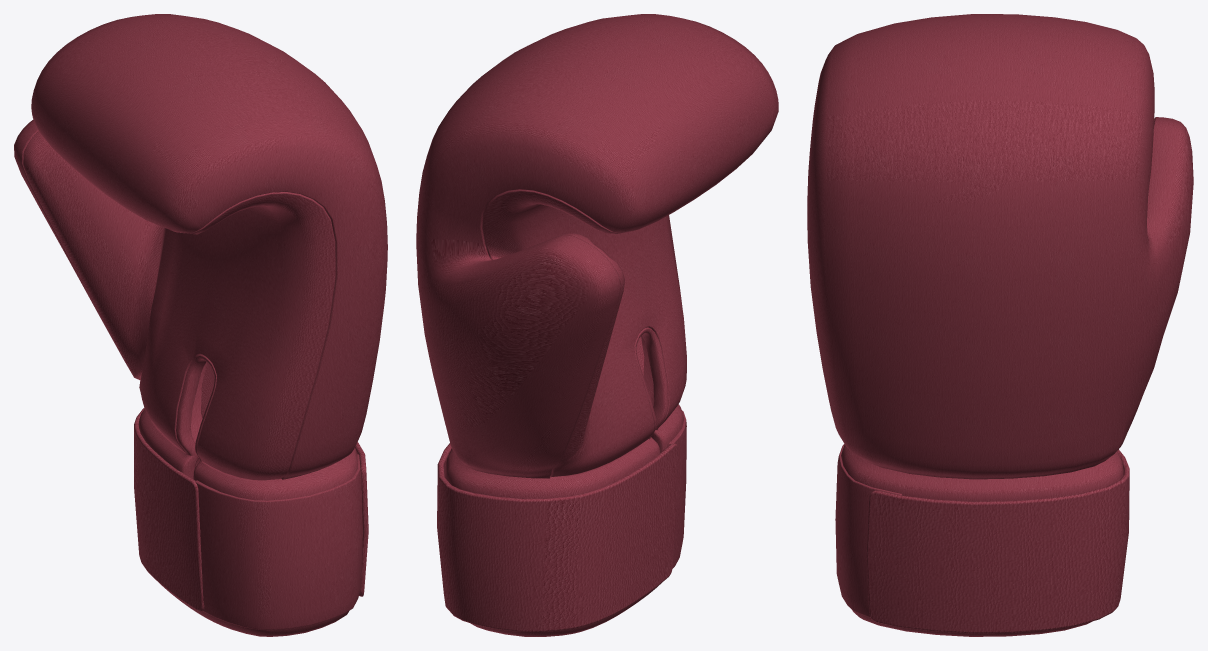
The model's file is rękawice bokserskie075.fbx.
3 renders of one model, left to right at view 1: azimuth 30°, elevation 25°; view 2: azimuth 150°, elevation 25°; view 3: azimuth 270°, elevation 25°, orthographic. The views are drawn at different scales.
Parts seen in each view (by area): view 1: rękawice bokserskie075; view 2: rękawice bokserskie075; view 3: rękawice bokserskie075.
Part boxes in pixels (<box>): rękawice bokserskie075: <box>14,14,387,636</box>; rękawice bokserskie075: <box>416,14,778,636</box>; rękawice bokserskie075: <box>807,14,1193,636</box>.
Bounding box in the file's own units: 5.3 × 10.6 × 6.77.
